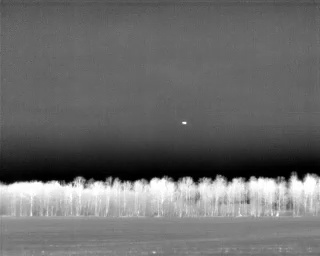DRONE: (179, 117, 190, 129)
